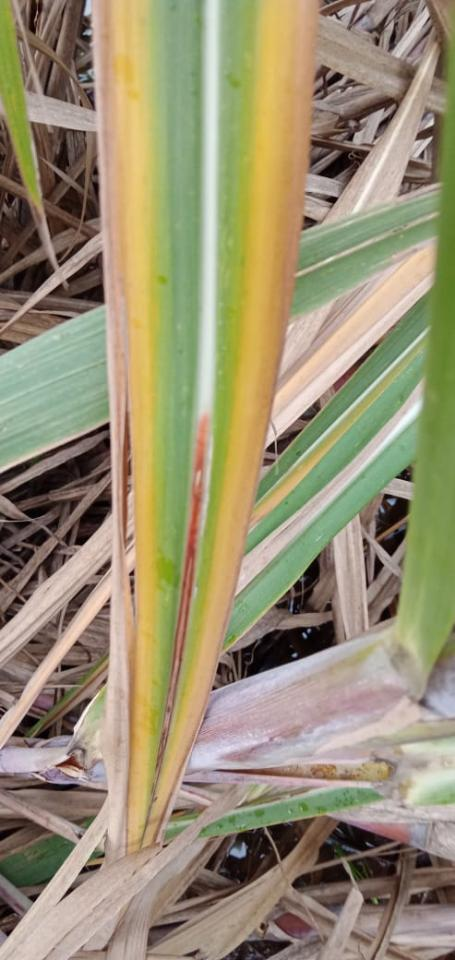RedRot: (149, 413, 208, 808)
Yellow: (160, 0, 318, 803), (94, 0, 157, 852), (251, 342, 422, 532)
